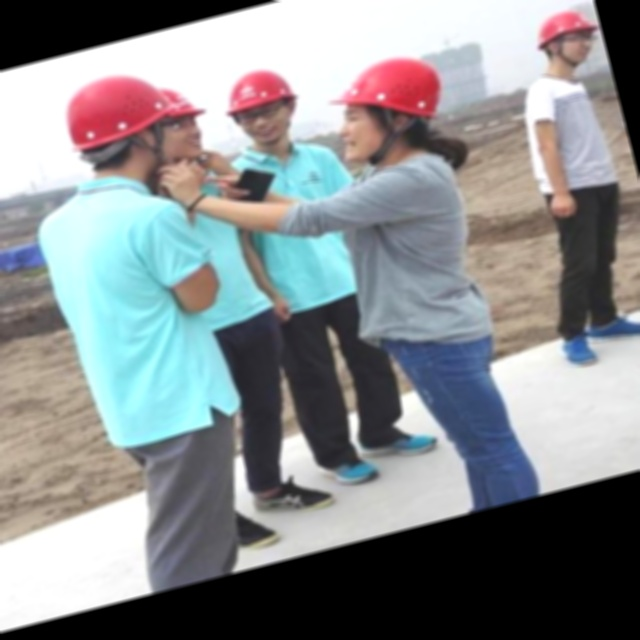Con_Casco: (323, 52, 450, 163), (59, 66, 182, 180)
